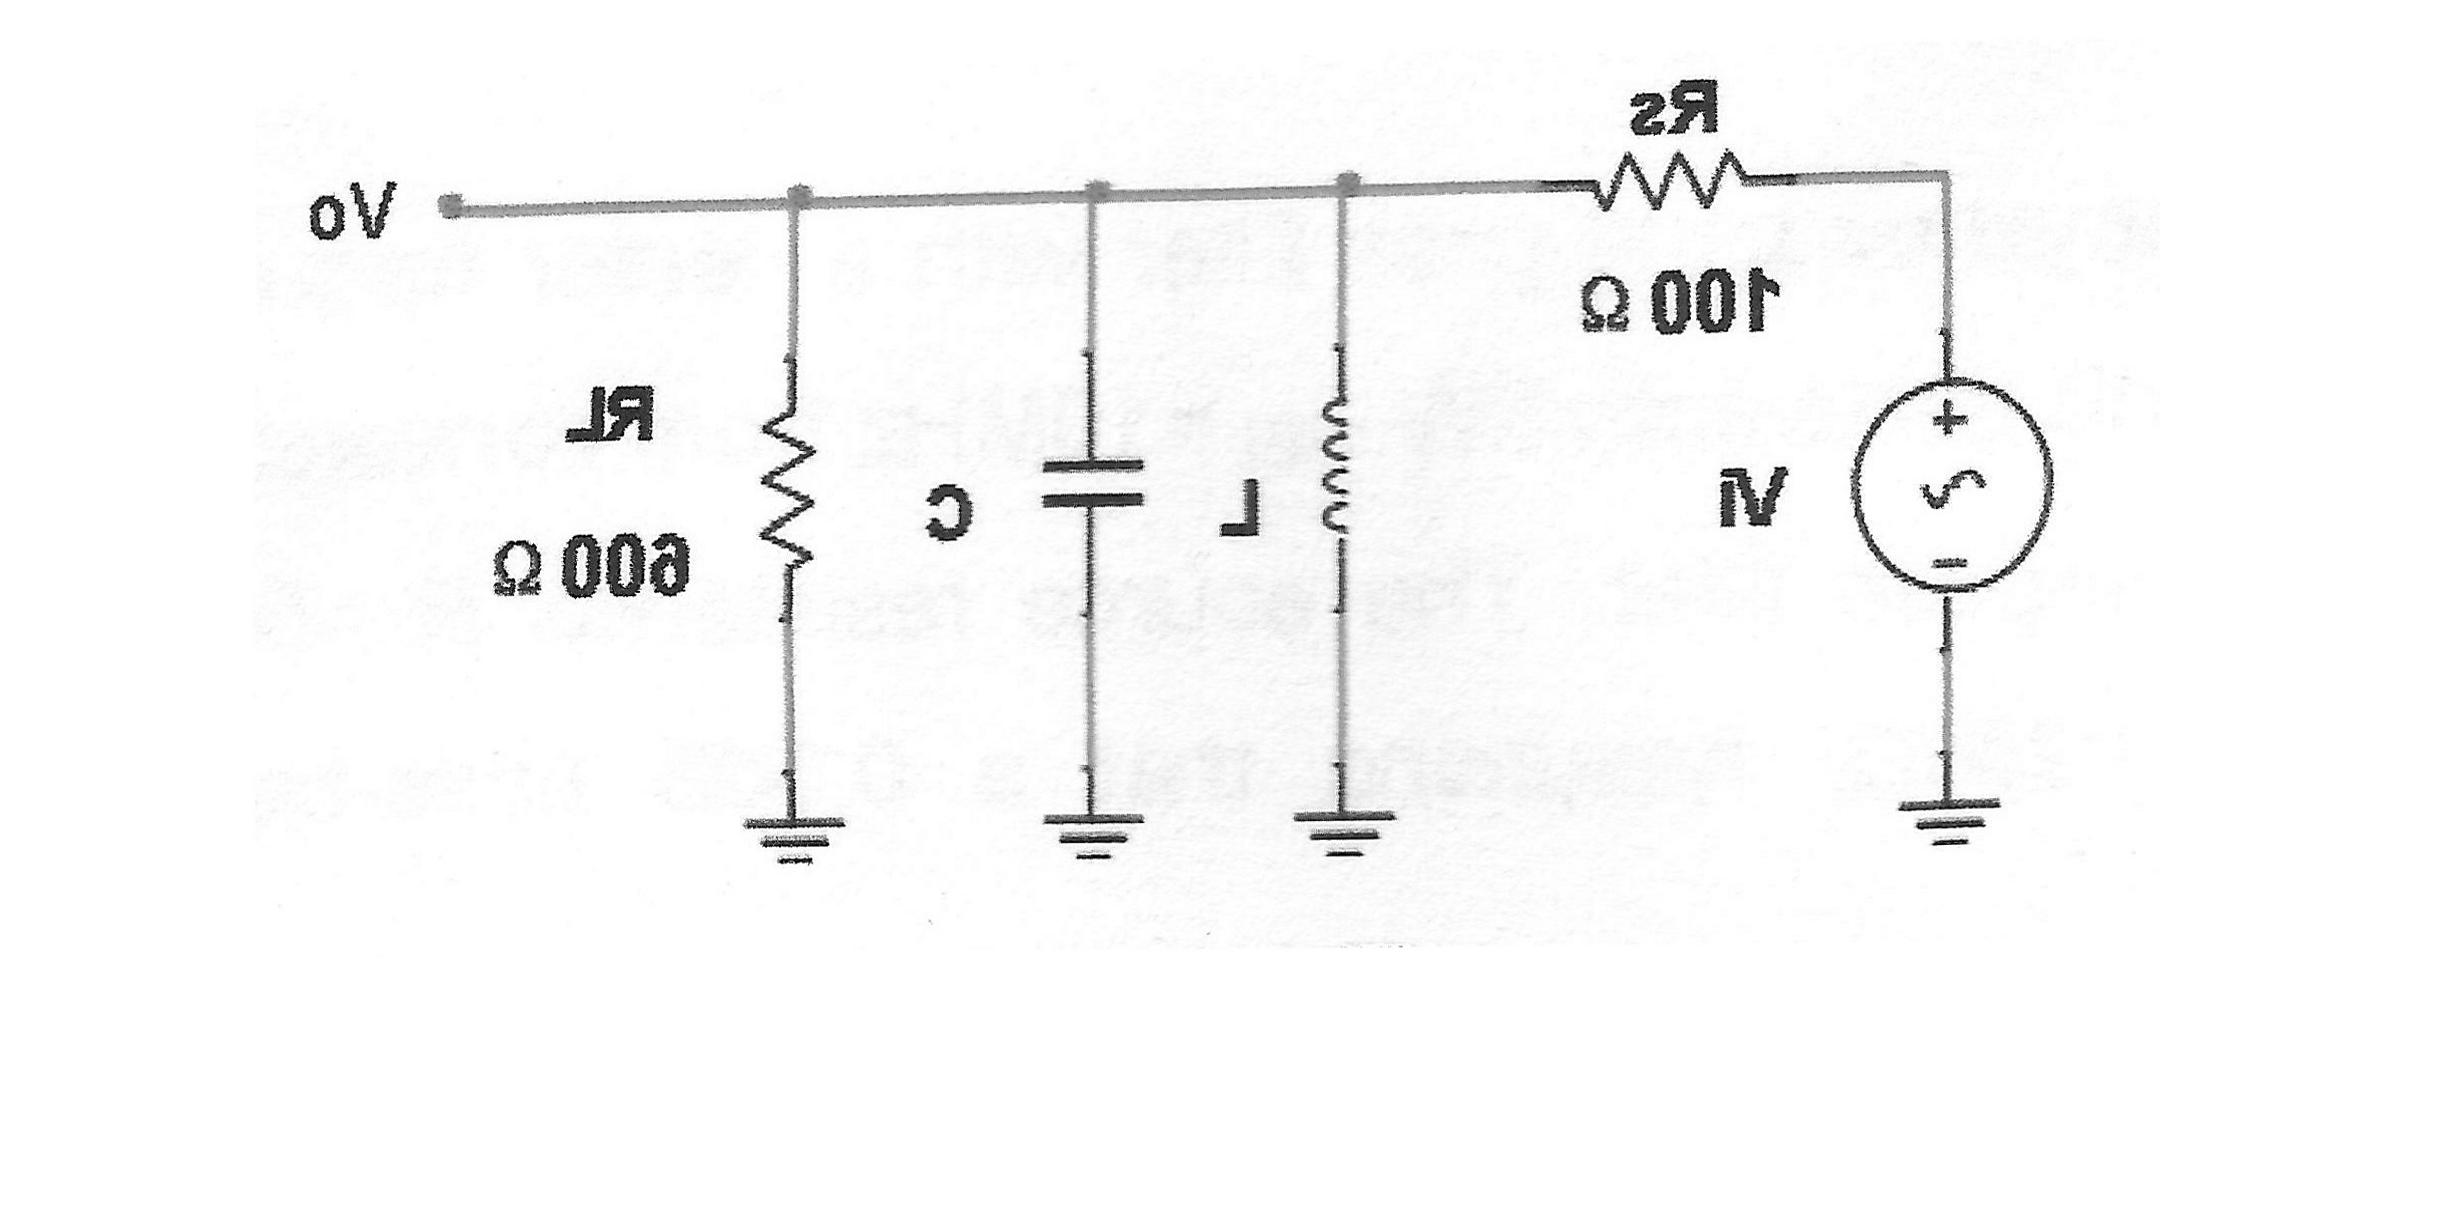Battery: (1806, 350, 2084, 644)
